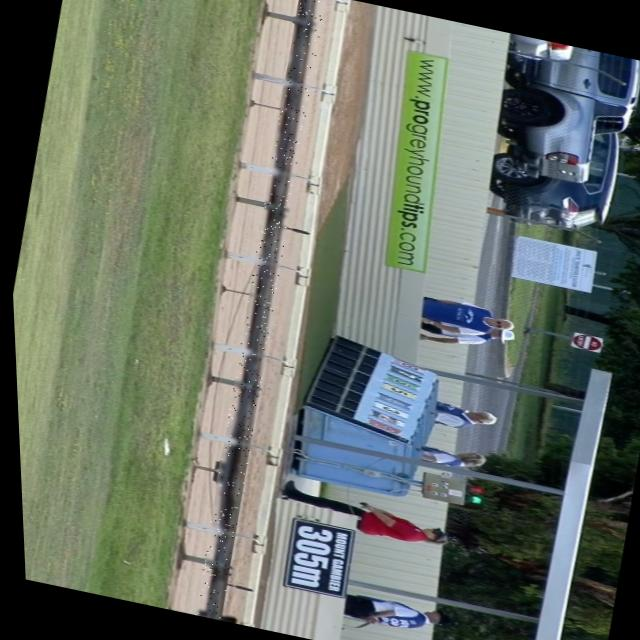rail: (193, 0, 313, 620)
